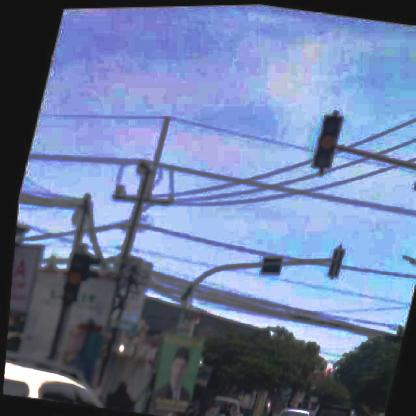Traffic Light -Yellow-: (305, 112, 339, 171), (58, 250, 86, 302)
